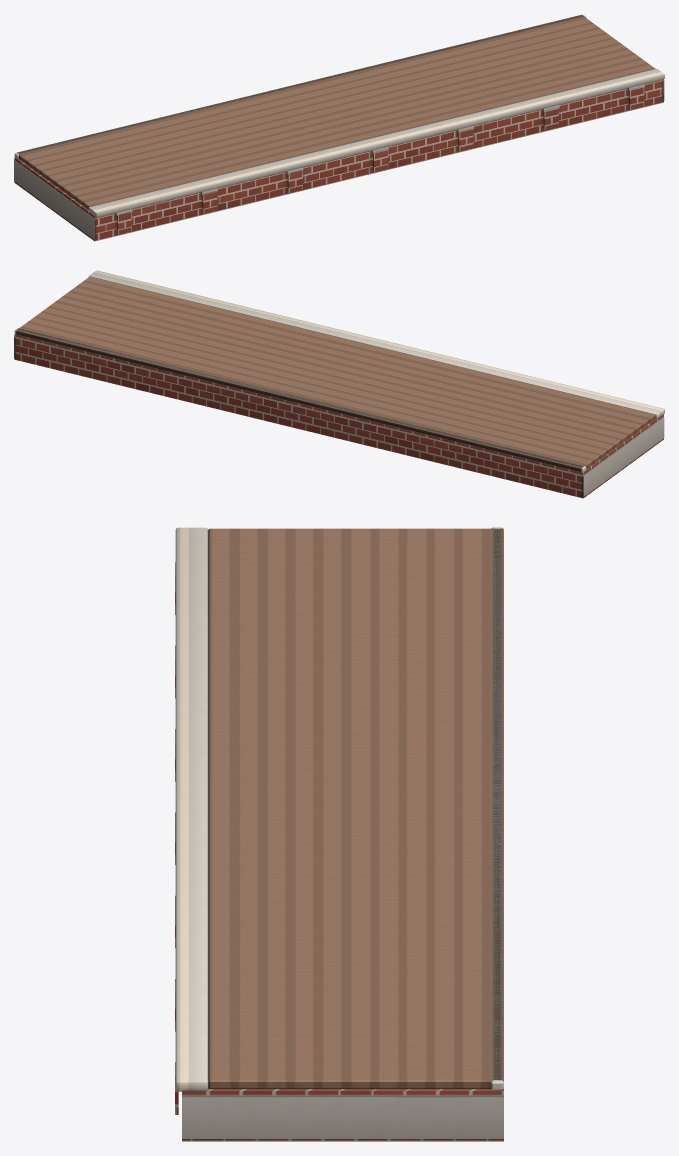
File: depot_platform.fbx
3 views of the same model, one above another, from view 1: azimuth 30°, elevation 25°; view 2: azimuth 150°, elevation 25°; view 3: azimuth 270°, elevation 25° (orthographic). The views are drawn at different scales.
Parts seen in each view (by area): view 1: depot_platform; view 2: depot_platform; view 3: depot_platform.
Part boxes in pixels (<box>): depot_platform: <box>14,14,664,241</box>; depot_platform: <box>14,270,664,498</box>; depot_platform: <box>175,527,503,1141</box>.
Size of the model in its own units: 4004 by 200 by 1002.
Materials: 1 (1 with a texture image).
